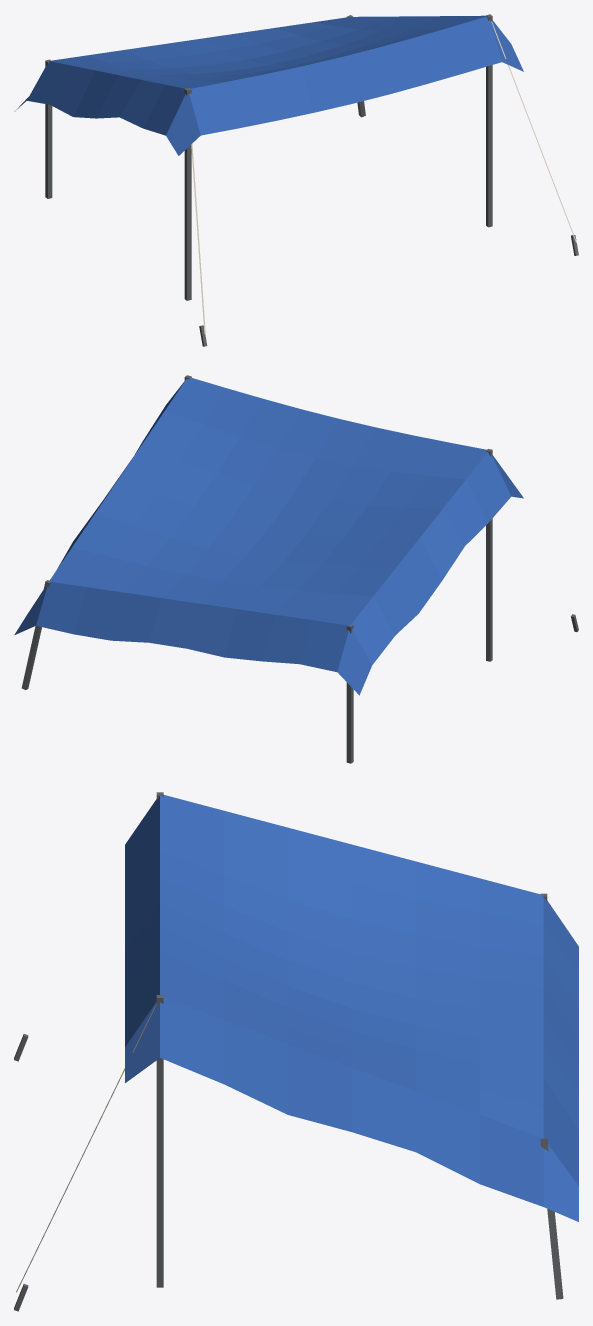
Rendered from shade-tarp.glb.
3 renders of one model, top to bottom at view 1: azimuth 30°, elevation 25°; view 2: azimuth 150°, elevation 25°; view 3: azimuth 270°, elevation 25°, orthographic. The views are drawn at different scales.
Parts seen in each view (by area): view 1: ShadeTarp; view 2: ShadeTarp; view 3: ShadeTarp.
Boxes of the visible parts, x1,y1,x2,y2 form: ShadeTarp: (14, 14, 578, 346); ShadeTarp: (14, 375, 578, 763); ShadeTarp: (14, 792, 578, 1311).
Bounding box in the file's own units: 3.73 × 2.01 × 3.53.
